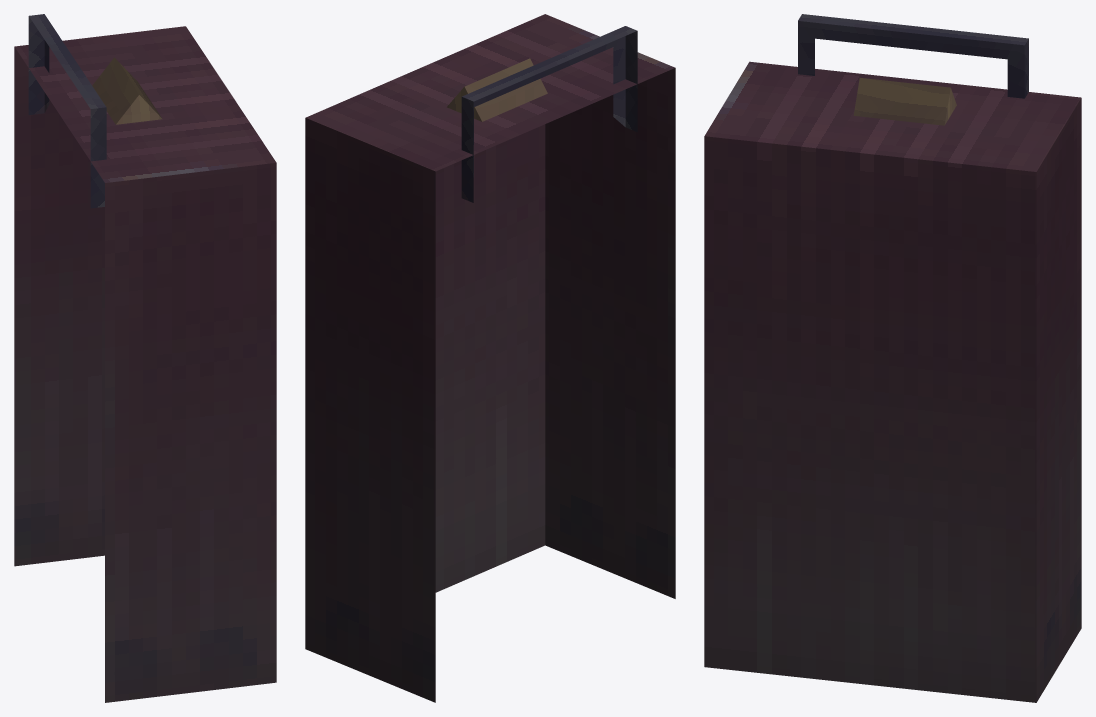
The model's file is suitcase.gltf.
3 renders of one model, left to right at view 1: azimuth 30°, elevation 25°; view 2: azimuth 150°, elevation 25°; view 3: azimuth 270°, elevation 25°, orthographic. The views are drawn at different scales.
Parts seen in each view (by area): view 1: suitcase; view 2: suitcase; view 3: suitcase.
Boxes of the visible parts, x1,y1,x2,y2 form: suitcase: (14,14,276,702); suitcase: (305,14,675,702); suitcase: (704,14,1081,702).
Size of the model in its own units: 0.2636 by 0.6508 by 0.3807.
Materials: 1 (1 with a texture image).
